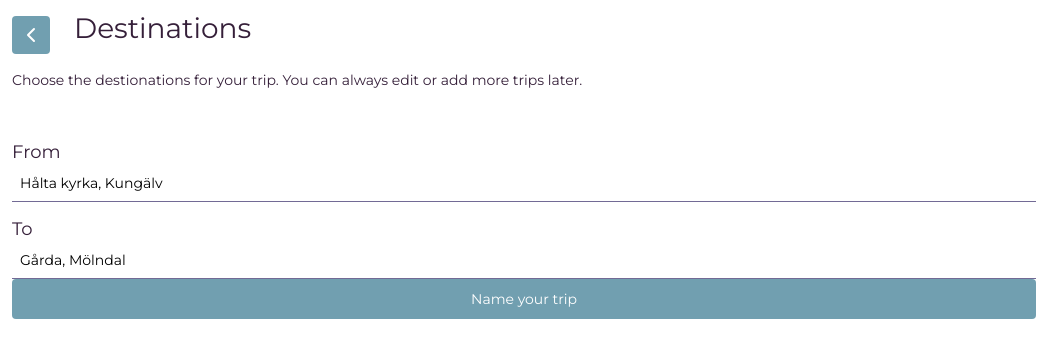
it: <ChooseDestionationView /> › should show 3 locations when only 3 originLocations exists
Type "aa" into the field with test id "from-input" at coordinates (524, 184), box [12, 166, 1036, 202]
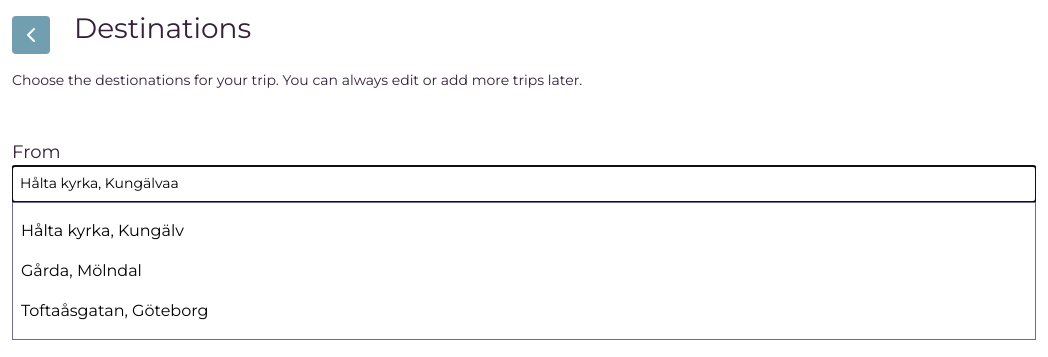
Expected: the list is shown, [12, 202, 1036, 340]
Expected: the number of list items is 3, [21, 220, 184, 240]; [21, 260, 142, 280]; [21, 300, 208, 320]
